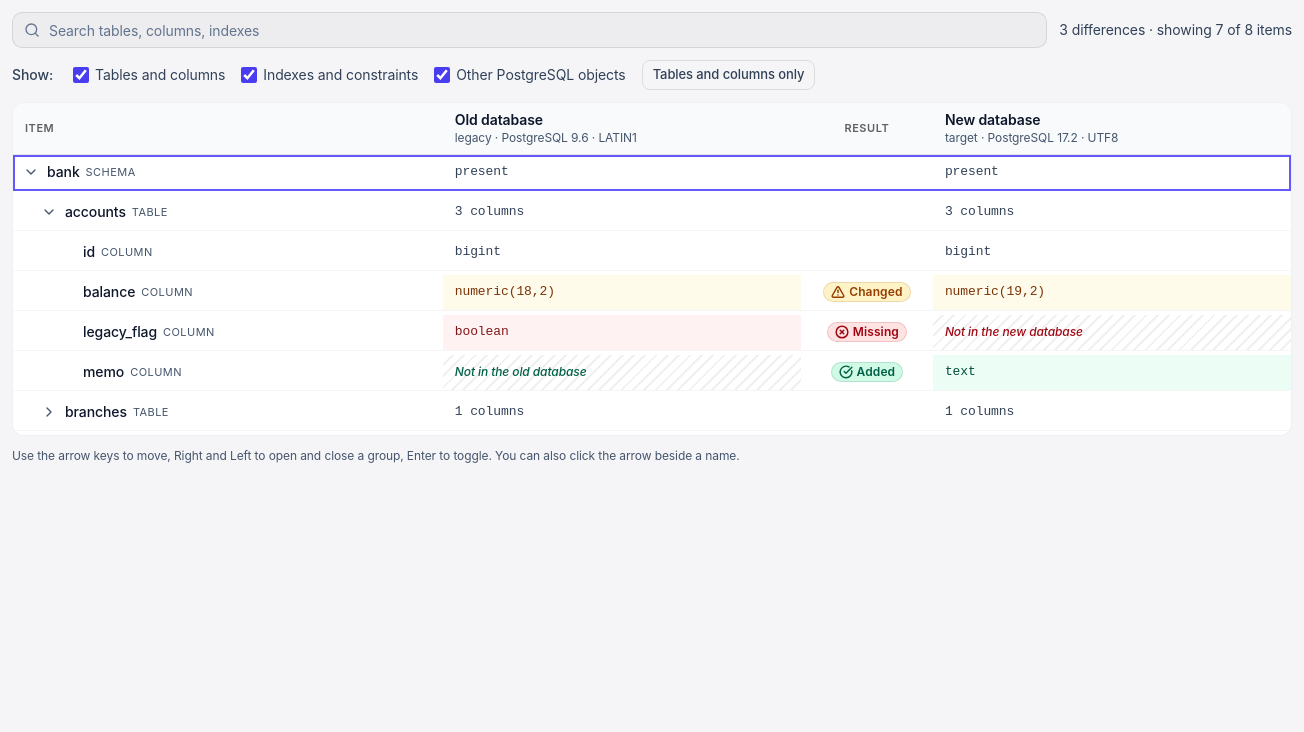
StructureCompareView › opens and closes a group with the mouse
Expected: the text "code" is not shown
Step 1. Click the button named "Expand branches" → (49, 412), box [39,402,59,422]
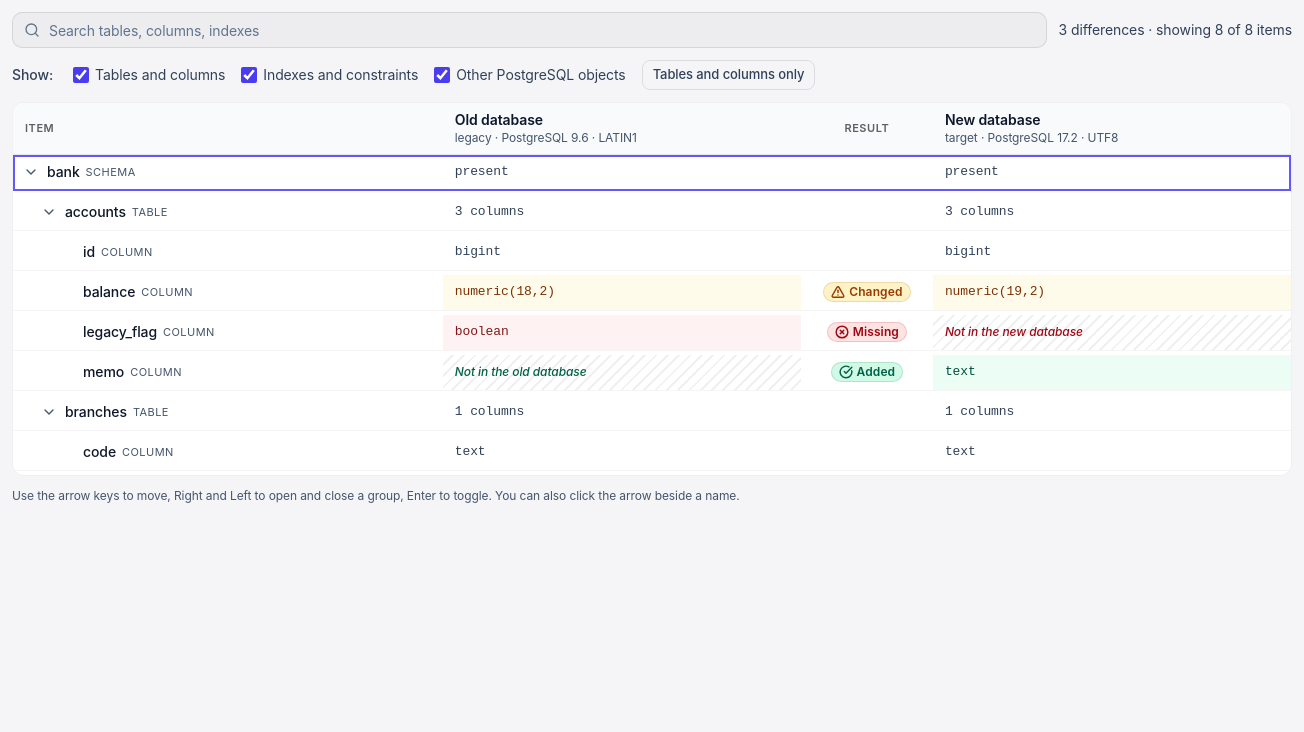
Expected: the row with test id "structure-row" showing "code column text text" is shown, [13,434,1291,470]
Step 2. Click the button named "Collapse branches" → (49, 412), box [39,402,59,422]
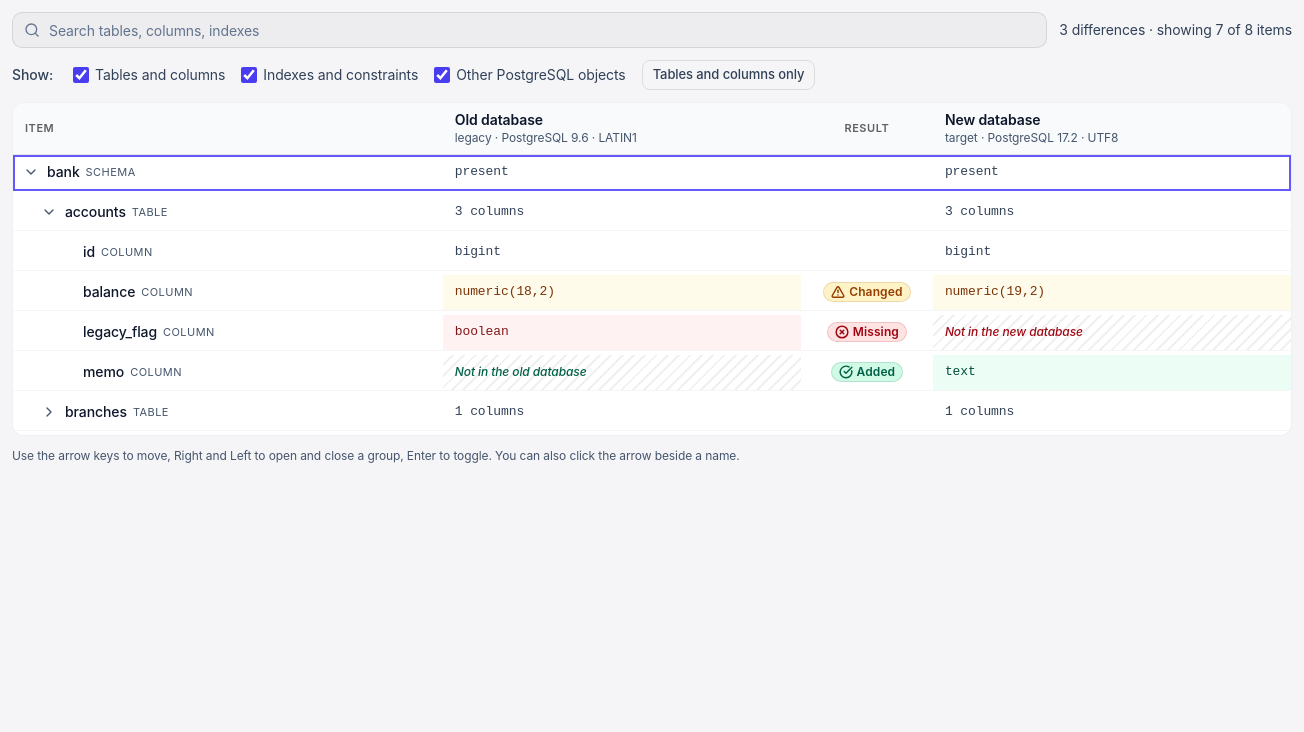
Expected: the text "code" is gone
